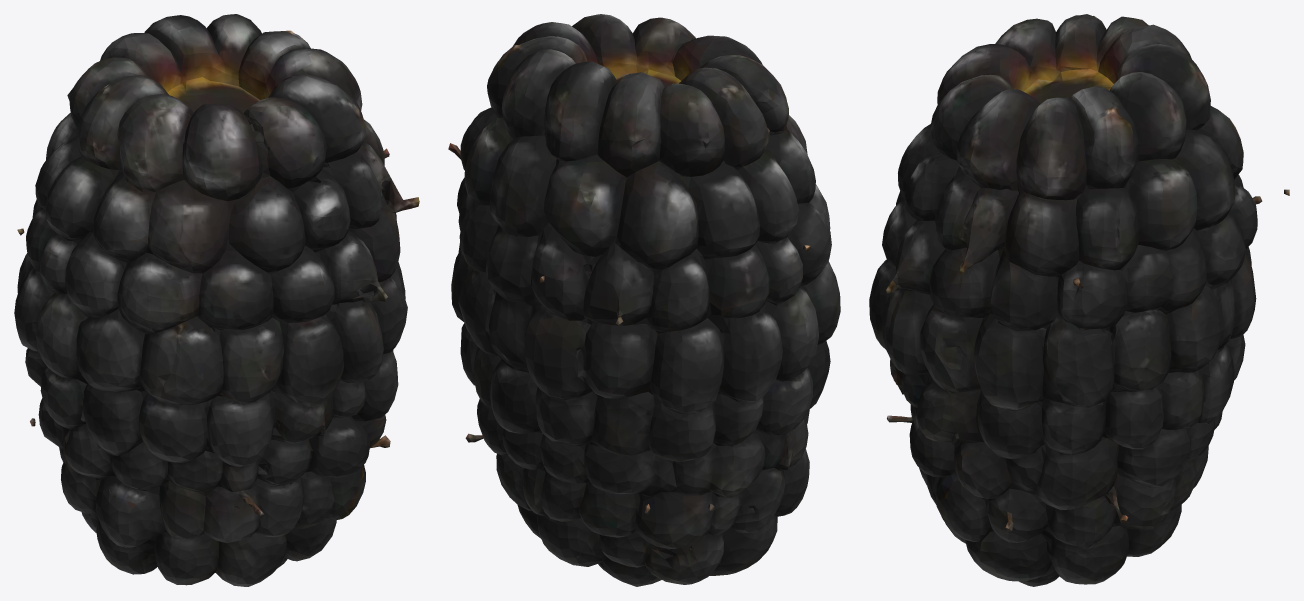
Rendered from blackberry.glb.
3 views of the same model, side by side, from view 1: azimuth 30°, elevation 25°; view 2: azimuth 150°, elevation 25°; view 3: azimuth 270°, elevation 25° (orthographic). The views are drawn at different scales.
Parts seen in each view (by area): view 1: geometry_0; view 2: geometry_0; view 3: geometry_0.
Part boxes in pixels (x1,y1,x2,y2): geometry_0: (14,14,419,586); geometry_0: (448,14,840,586); geometry_0: (869,14,1289,586).
Size of the model in its own units: 0.7023 by 0.9684 by 0.6963.
1 material, 1 textured.
